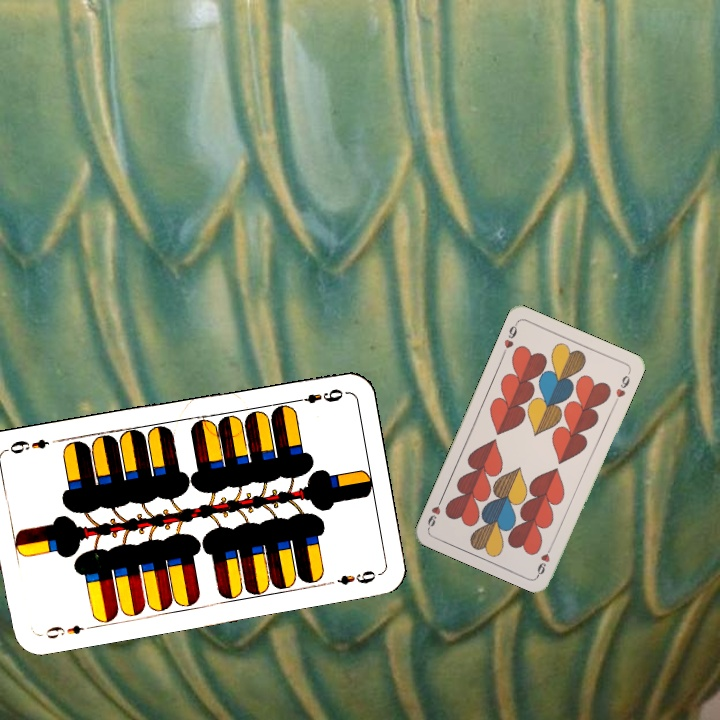E9: (290, 384, 346, 407), (36, 621, 95, 642)
H9: (533, 539, 556, 578), (498, 319, 520, 357)
